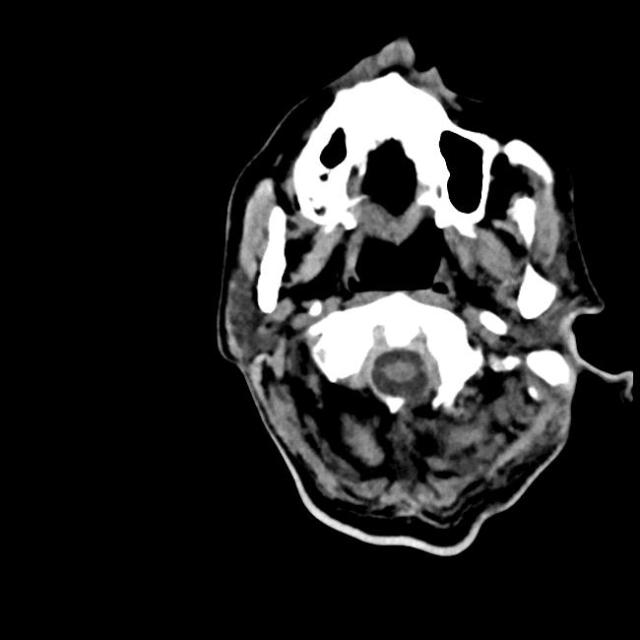lesion: (212, 36, 633, 558)
